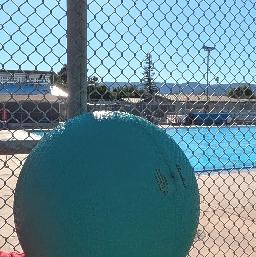algae: (10, 109, 201, 257)
